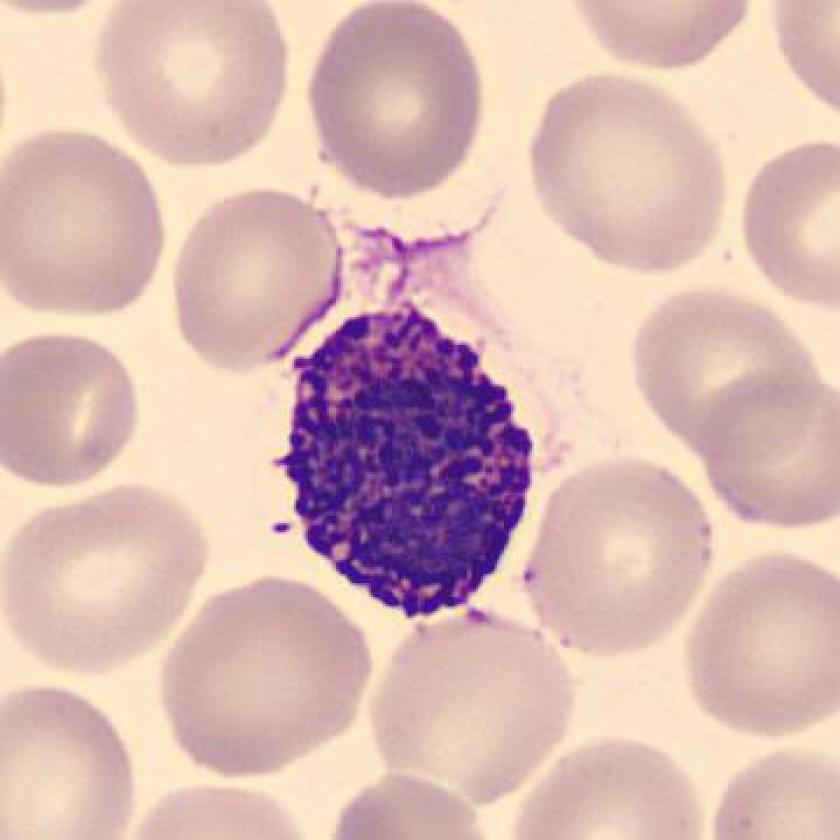basophil: (272, 286, 547, 635)
